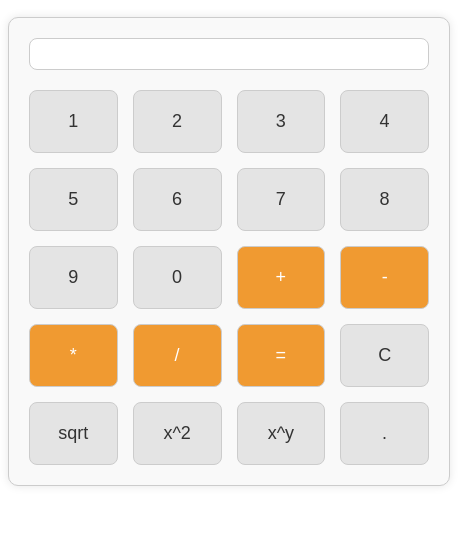
Test case: Calculator component › displays input correctly
The width and height of the screenshot is (468, 558).
Step 1. Click the button "1" → (73, 122), box [29,90,118,153]
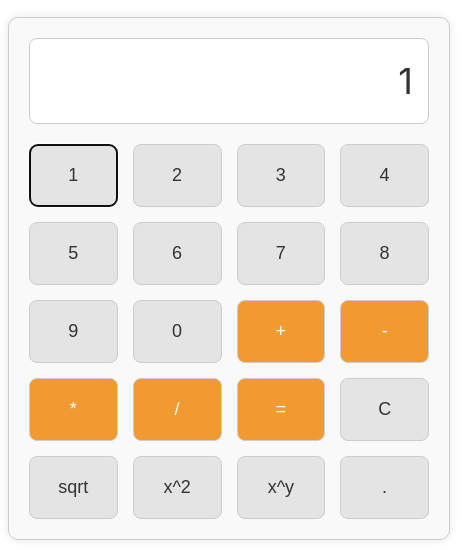
Step 2. Click the button "+" → (281, 332), box [236,300,325,363]
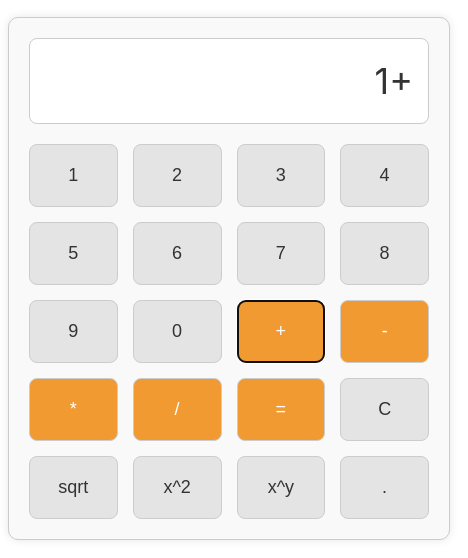
Step 3. Click the button "2" → (177, 176), box [133,144,222,207]
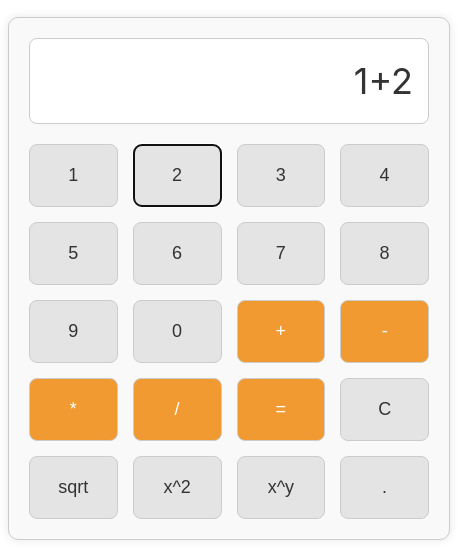
Expected: the text "1+2" is shown, [29,38,429,124]
